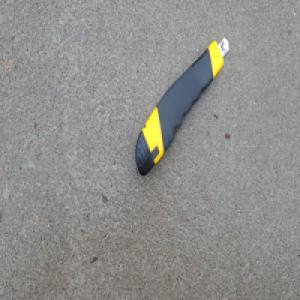Cutter: (135, 37, 229, 178)
